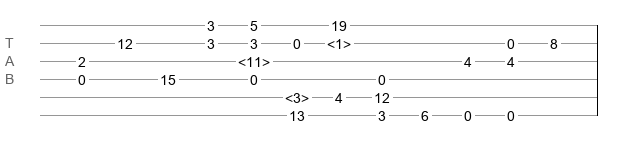0: (78, 72, 86, 82), (250, 72, 258, 82), (293, 36, 301, 46), (378, 72, 386, 82), (464, 108, 472, 118), (507, 108, 515, 118), (507, 36, 515, 46)
12: (117, 36, 133, 46), (374, 90, 390, 100)
13: (289, 108, 305, 118)
15: (160, 72, 176, 82)
19: (331, 18, 347, 28)
2: (78, 54, 86, 64)
3: (207, 36, 215, 46), (207, 18, 215, 28), (250, 36, 258, 46), (378, 108, 386, 118)
4: (335, 90, 343, 100), (464, 54, 472, 64), (507, 54, 515, 64)
5: (250, 18, 258, 28)
6: (421, 108, 429, 118)
8: (550, 36, 558, 46)
harmonic: (238, 54, 270, 64), (285, 90, 309, 100), (327, 36, 351, 46)
